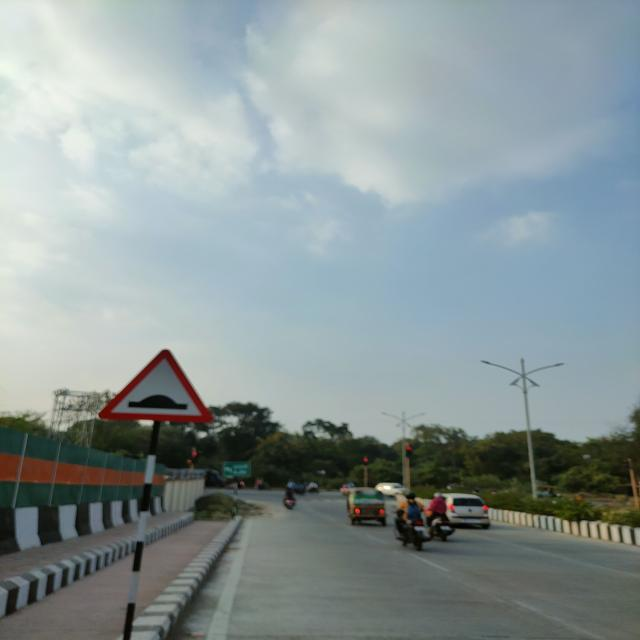horn_prohibited: (99, 349, 213, 423)
